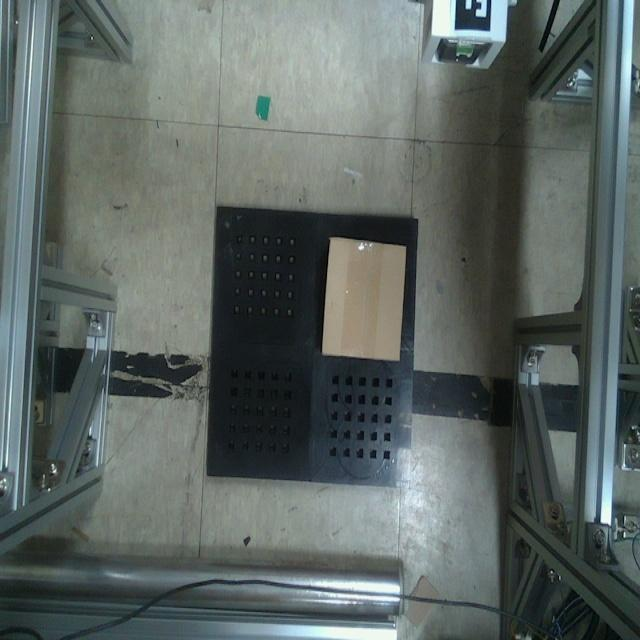box: (316, 234, 411, 364)
pallet: (201, 201, 423, 492)
